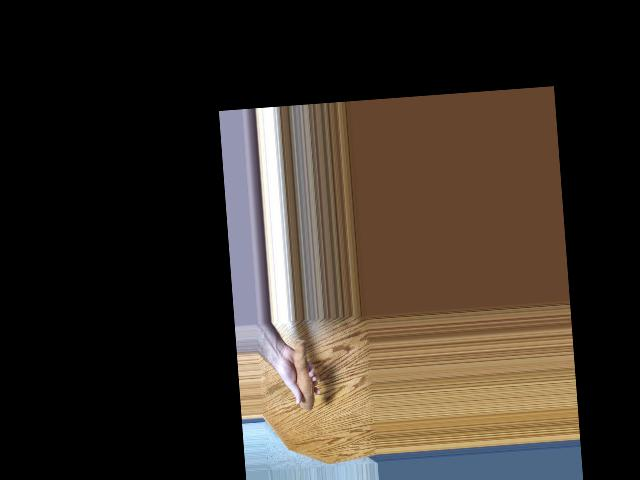sweet_potato: (284, 335, 317, 418)
